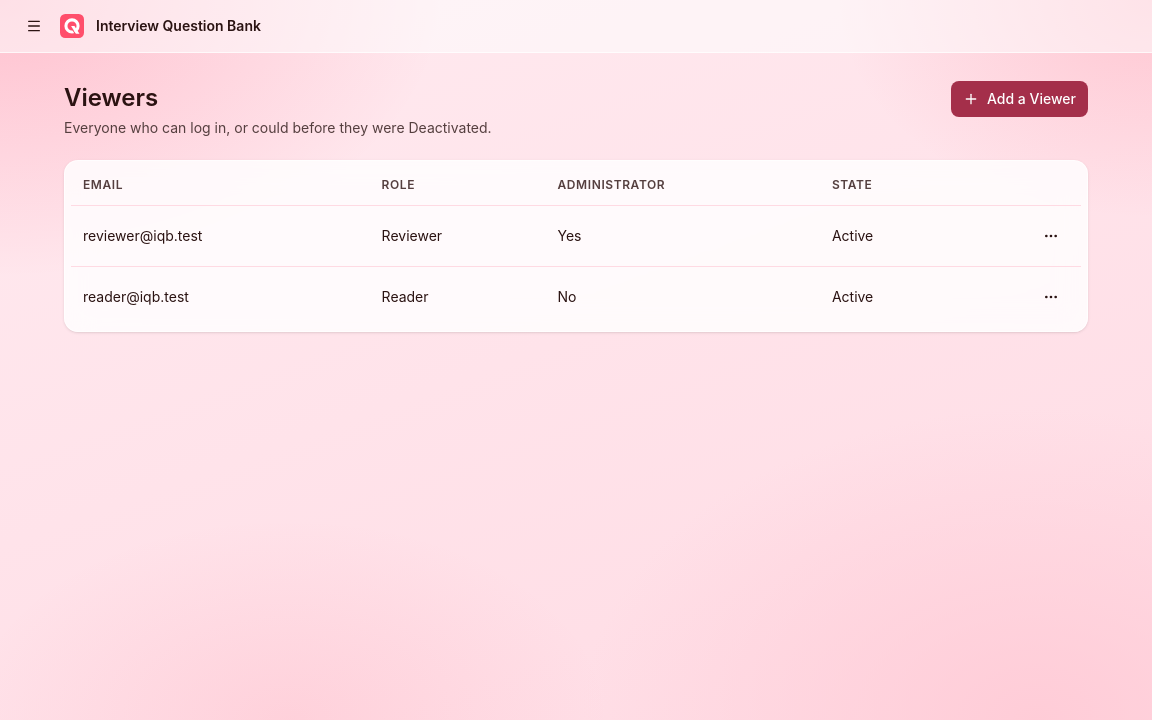
Test: acting on one Viewer from the administration console › reports the refusal to Withdraw Administrator the last Administrator on their row alone
Step 1. Click the button named "Actions for reviewer@iqb.test" → (1051, 236), box [1033,218,1069,254]
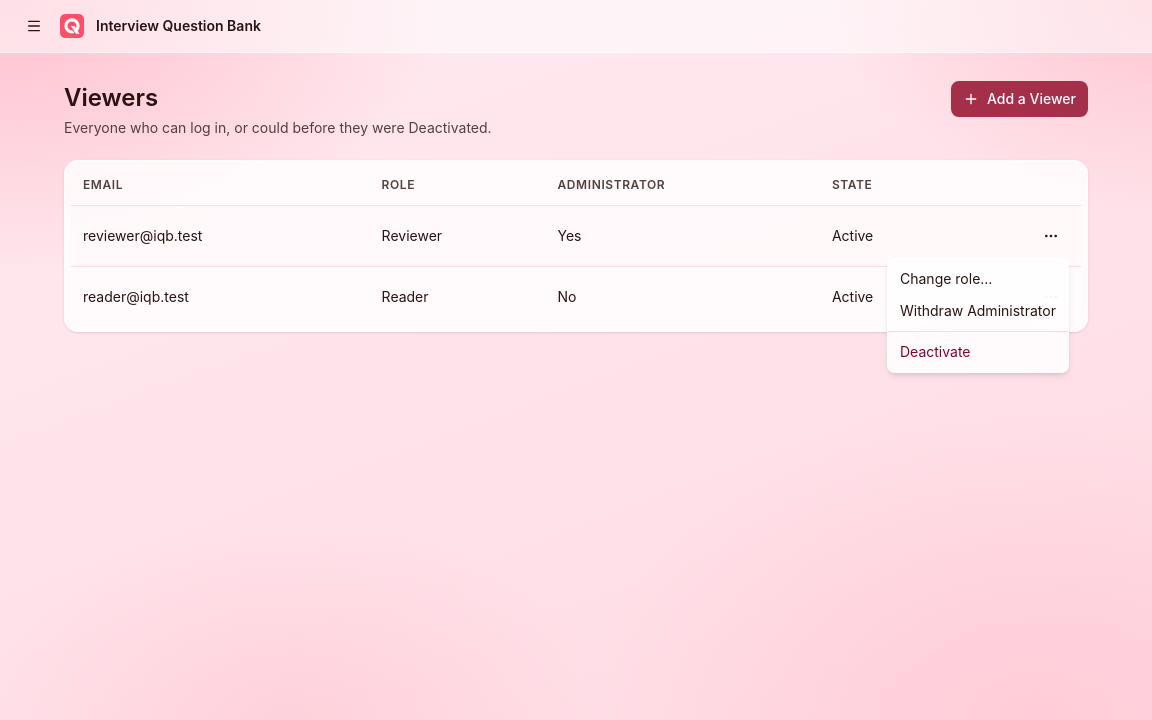
Step 2. Click the menu item "Withdraw Administrator" → (978, 310), box [900,302,1056,319]
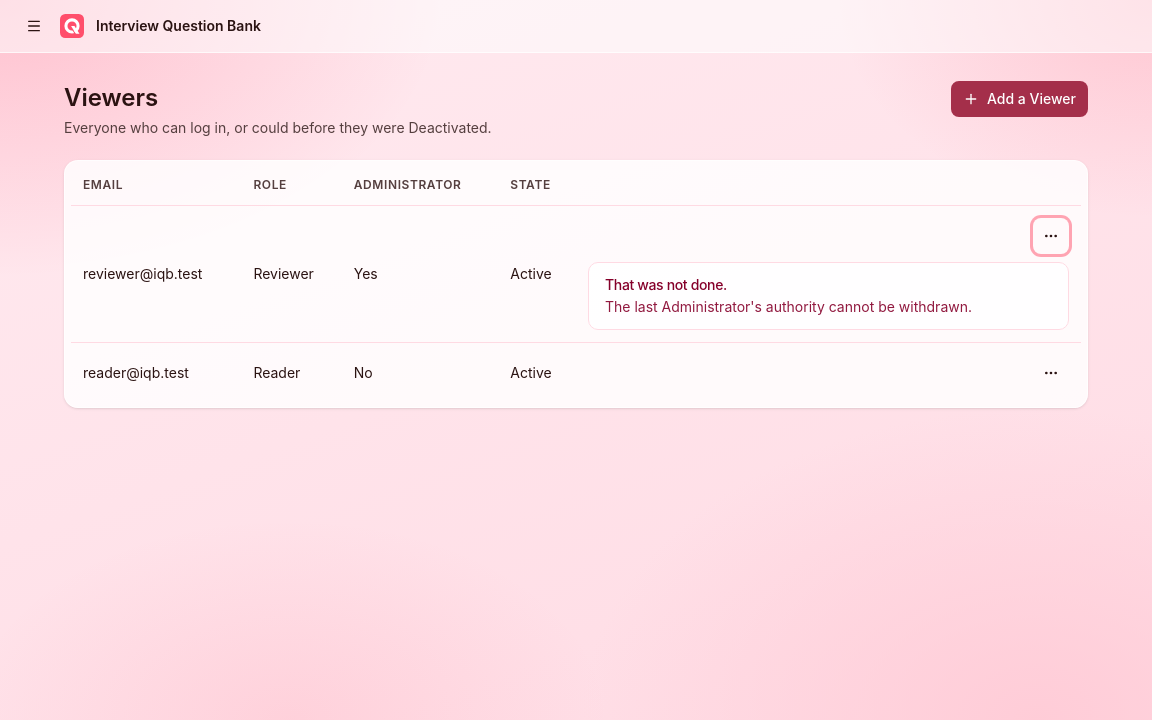
Expected: the cell "Yes" is shown, [342,206,498,342]
Expected: the text "The last Administrator's authority cannot be withdrawn." is shown, [605,298,972,315]
